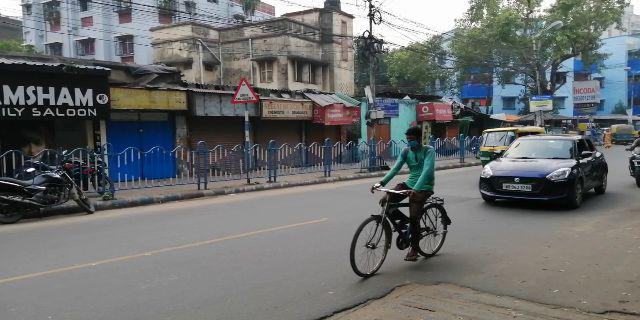Autorickshaw: (480, 124, 547, 167)
Car: (478, 135, 610, 206)
Cycle: (345, 123, 459, 277)
Motorbike: (1, 159, 103, 221)
